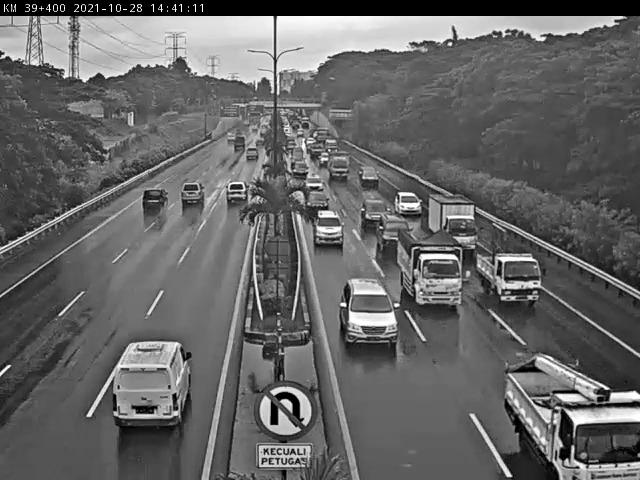car: (111, 340, 193, 428), (339, 278, 400, 349), (374, 209, 410, 247), (312, 207, 344, 244), (359, 200, 389, 228), (392, 190, 423, 216)
mid truck: (506, 354, 640, 480), (398, 233, 464, 311), (475, 246, 542, 305), (424, 192, 473, 249), (140, 187, 171, 214), (179, 181, 207, 206), (223, 180, 249, 205)
